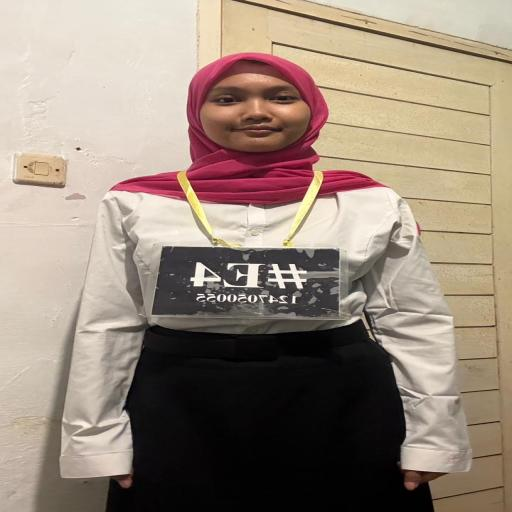kemeja_benar: (80, 189, 446, 334)
kerudung_benar: (130, 48, 405, 206)
nametag_ada: (148, 190, 356, 326)
rok_benar: (121, 361, 427, 512)
sabuk_ada: (130, 327, 390, 364)
